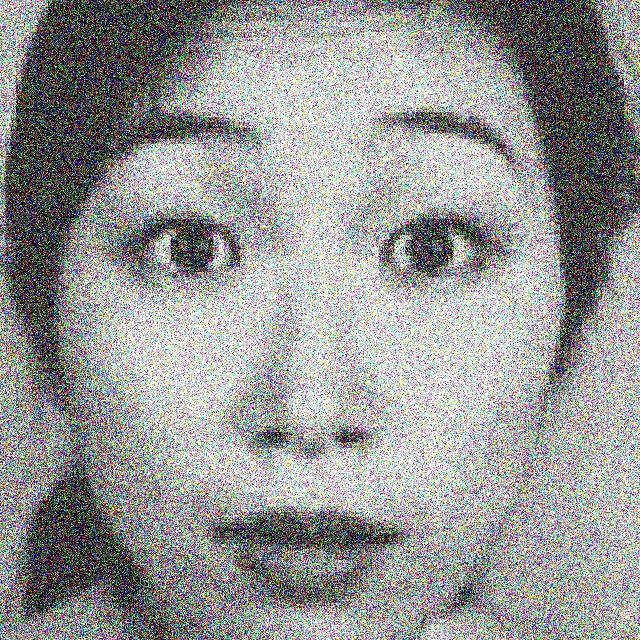surprise: (91, 42, 574, 636)
